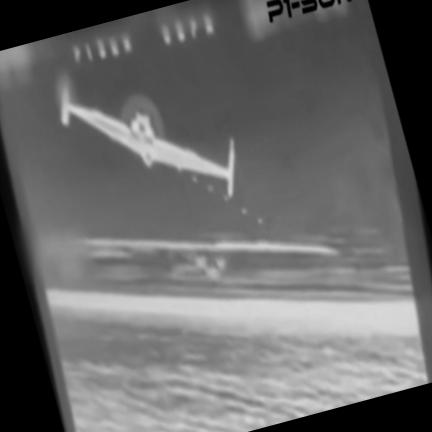Shahed: (59, 76, 236, 198)
